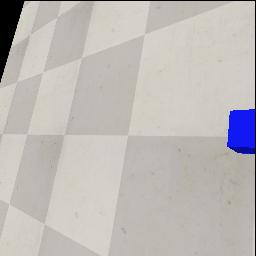box: (227, 109, 256, 154)
